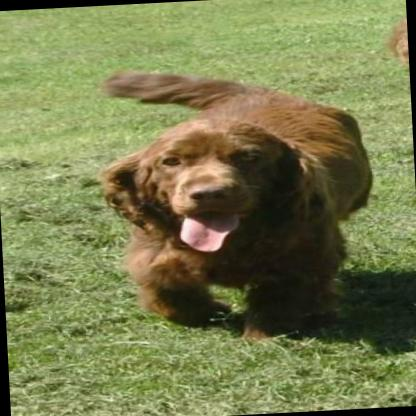Sussex_spaniel: (90, 57, 383, 351)
